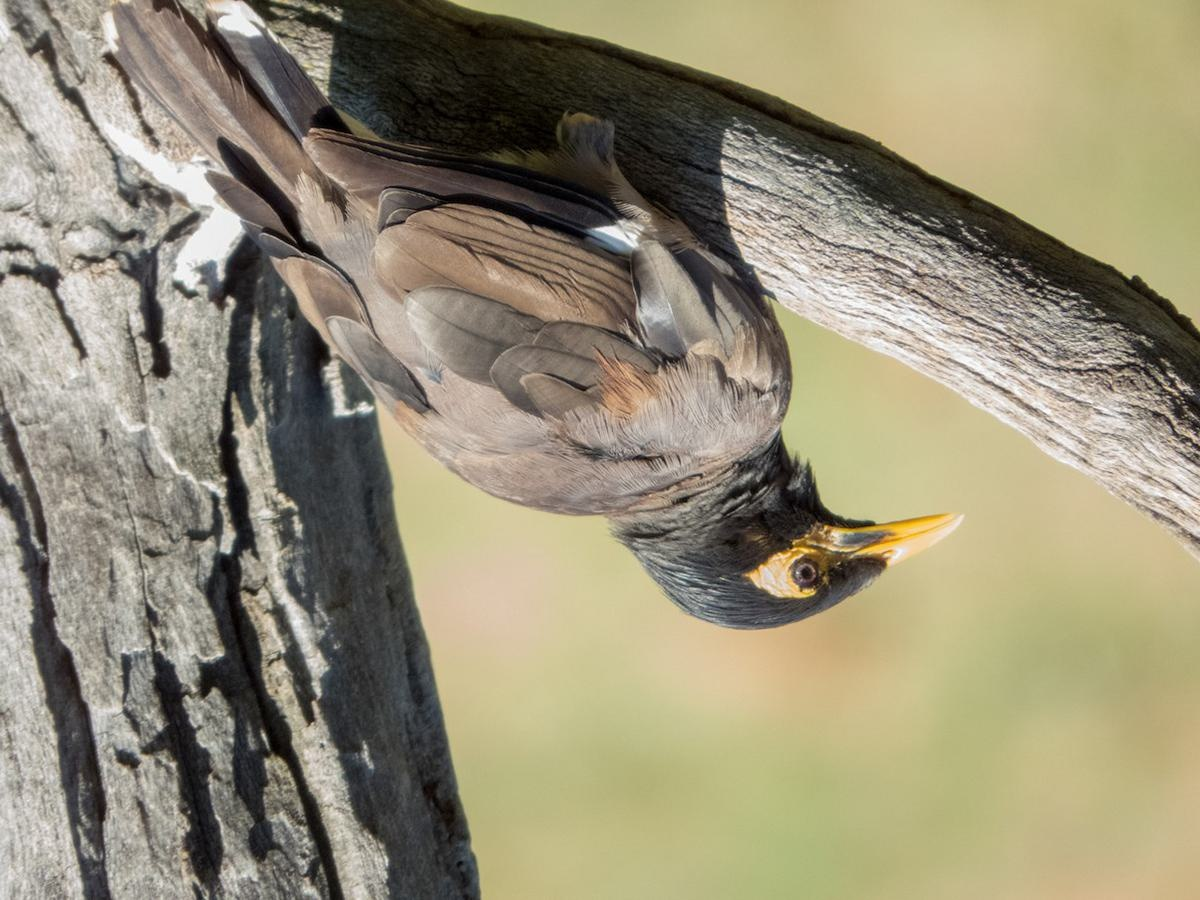myna: (144, 11, 953, 640)
